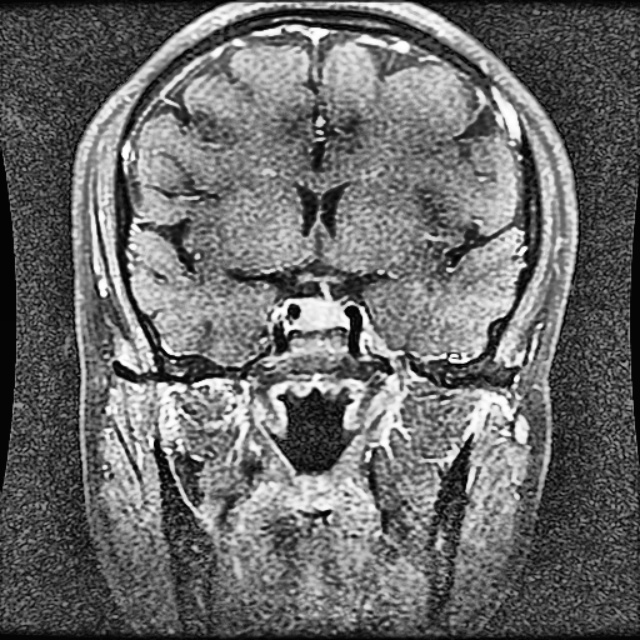Pituitary: (299, 300, 347, 328)
